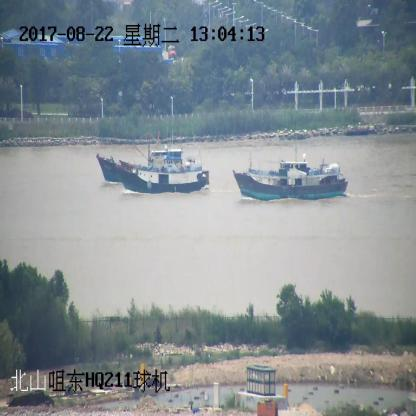Fishing Boat: (233, 156, 348, 201), (118, 155, 209, 196), (96, 148, 190, 184)
